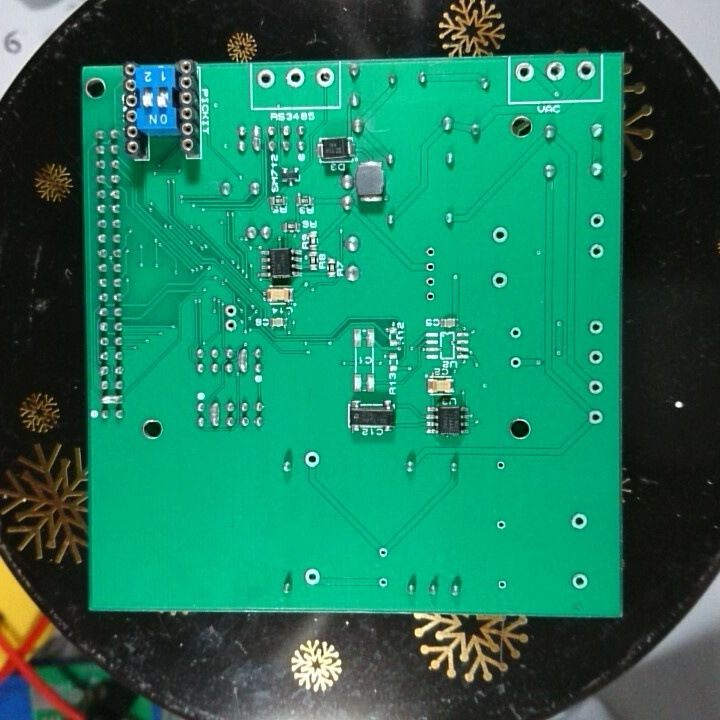F: (541, 58, 568, 86), (512, 59, 537, 87), (487, 267, 512, 295), (281, 67, 309, 89), (301, 564, 325, 589), (568, 508, 591, 534), (574, 59, 596, 86), (255, 68, 279, 90), (313, 69, 338, 90), (490, 221, 509, 247), (302, 449, 323, 472), (585, 317, 607, 338), (586, 377, 607, 399), (587, 406, 607, 429), (586, 347, 606, 369), (587, 240, 605, 264), (508, 352, 526, 375), (569, 571, 587, 592), (507, 323, 524, 344), (587, 212, 606, 230), (223, 315, 240, 334), (221, 302, 240, 318), (494, 457, 507, 478), (493, 578, 510, 593), (375, 542, 390, 559), (423, 275, 439, 290), (376, 574, 390, 591), (424, 260, 438, 276), (495, 518, 508, 535), (423, 243, 436, 260), (424, 289, 436, 305)
P: (95, 392, 130, 407), (208, 400, 222, 431), (237, 343, 250, 376), (250, 120, 261, 158)
